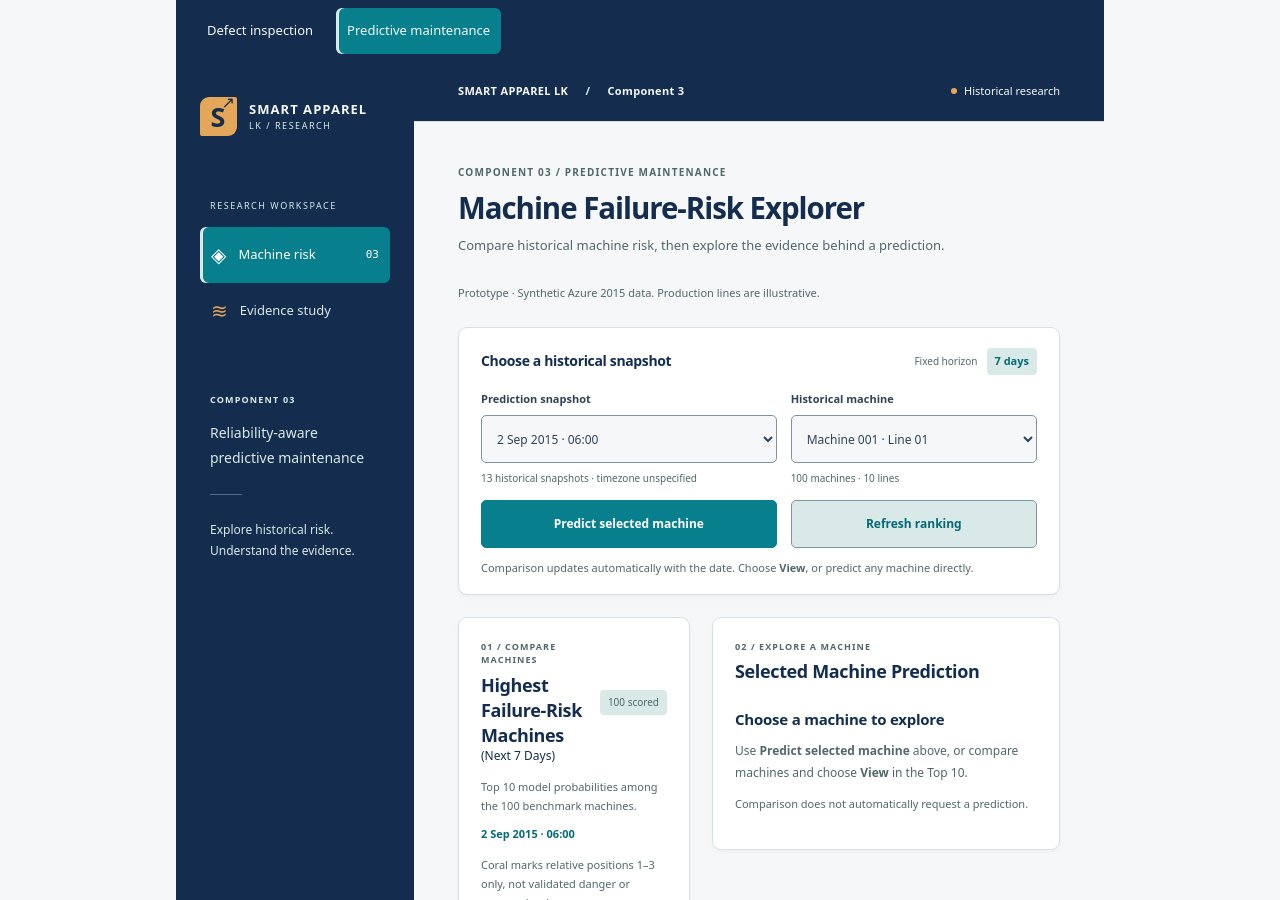
Test: Component 3 historical prediction page › submits the selected integer ID and exact timezone-naive timestamp
The image size is (1280, 900).
Step 1. Select "Machine 100 · Line 10" in the dropdown labelled "Historical machine" → (914, 439), box [791,415,1037,463]
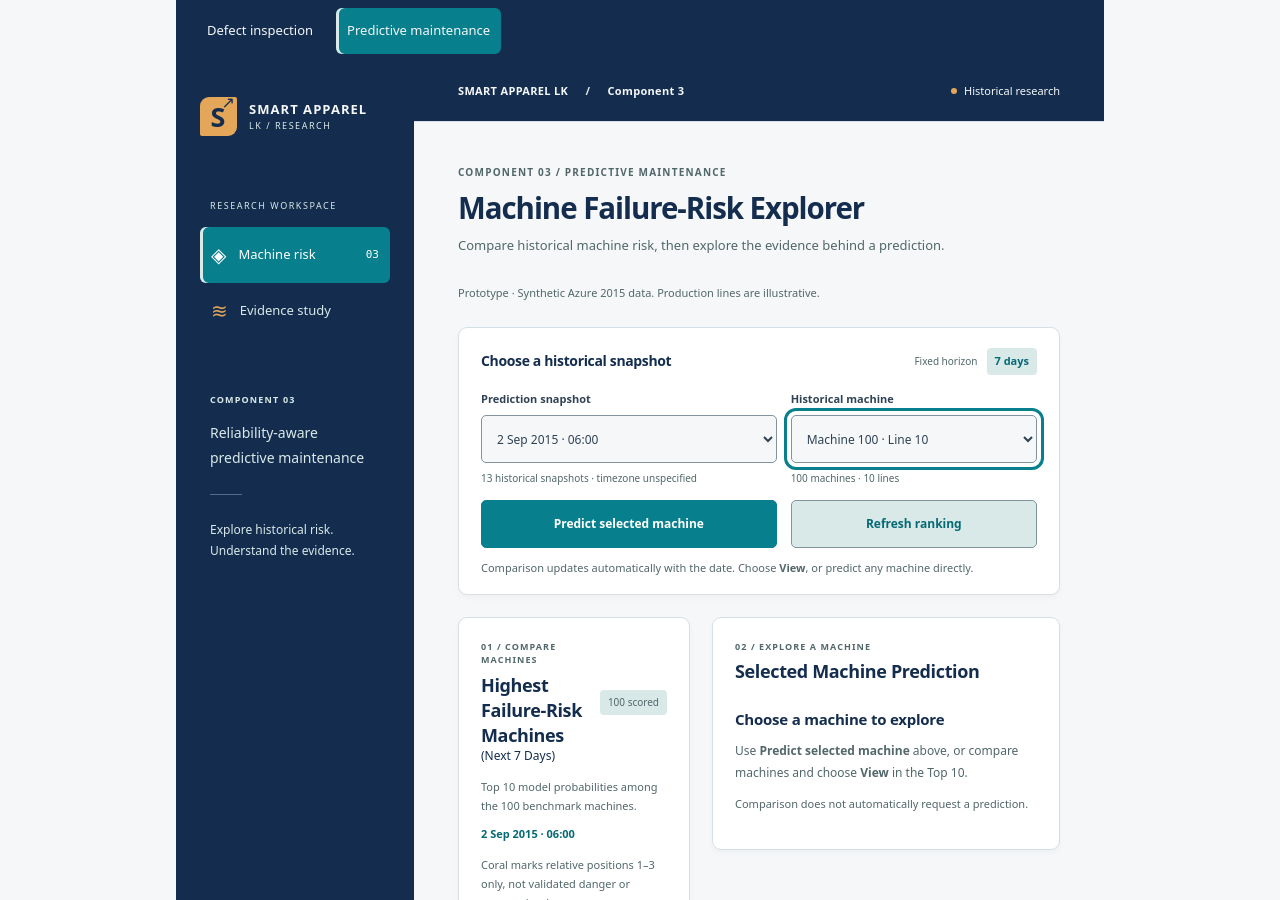
Step 2. Select "25 Nov 2015 · 06:00" in the dropdown labelled "Prediction snapshot" → (629, 439), box [481,415,777,463]
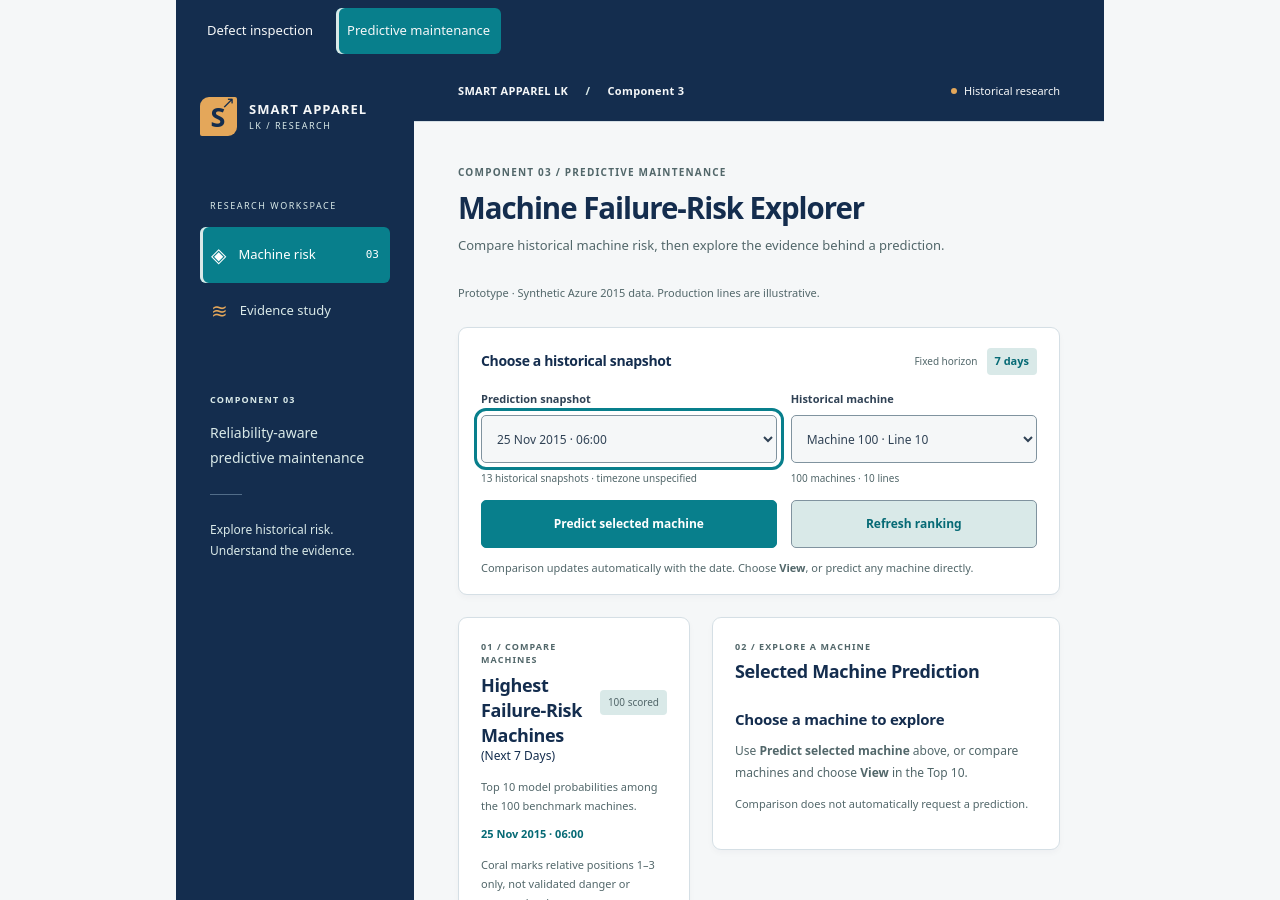
Step 3. Click the button "Predict selected machine" → click(629, 524), box [481,500,777,548]
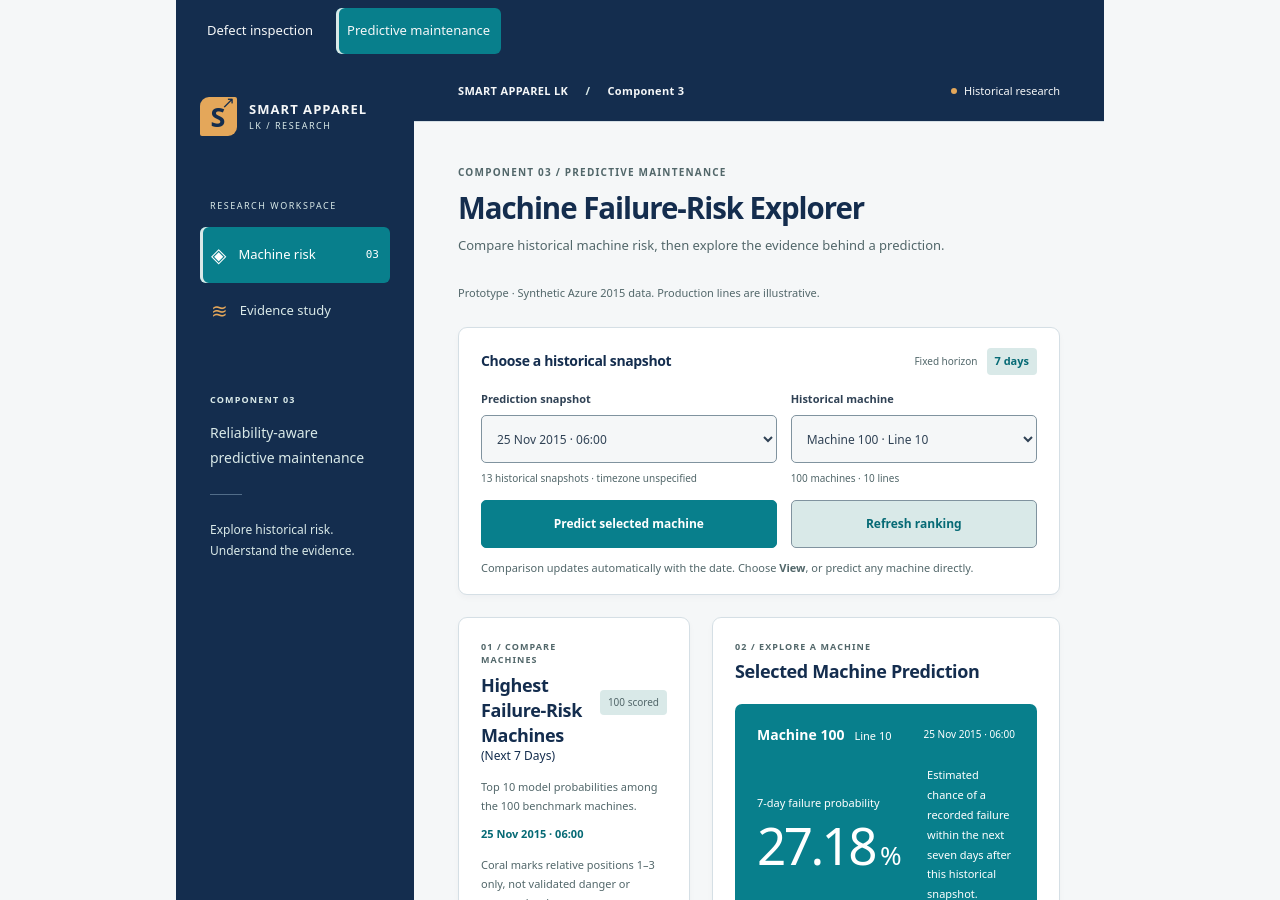
Check: the element with test id "failure-probability" reads "27.18%", box [757,816,899,875]
